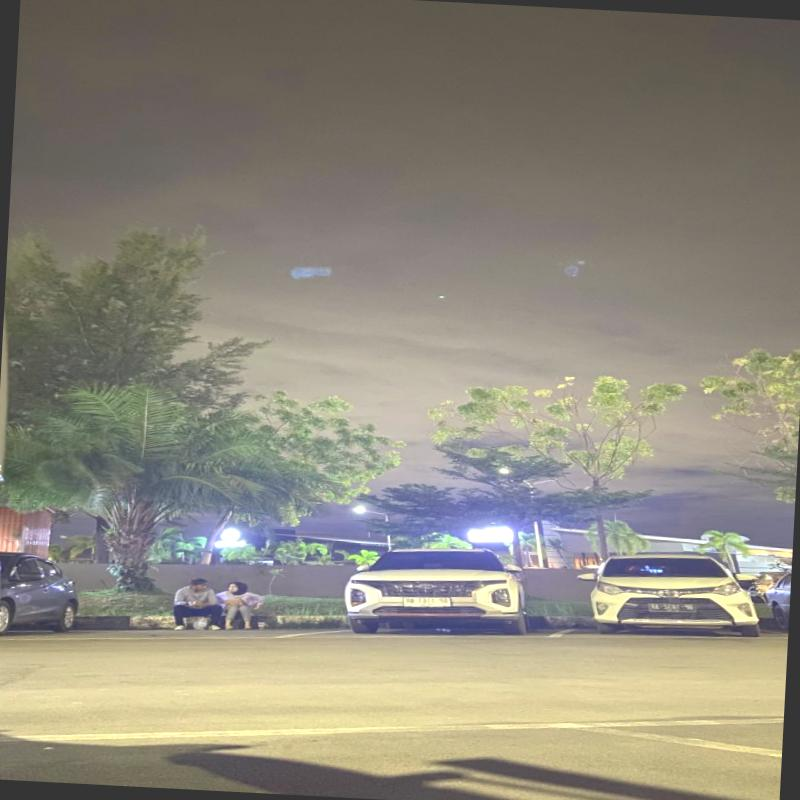license plate on a car: (402, 597, 450, 608), (646, 602, 695, 612)
